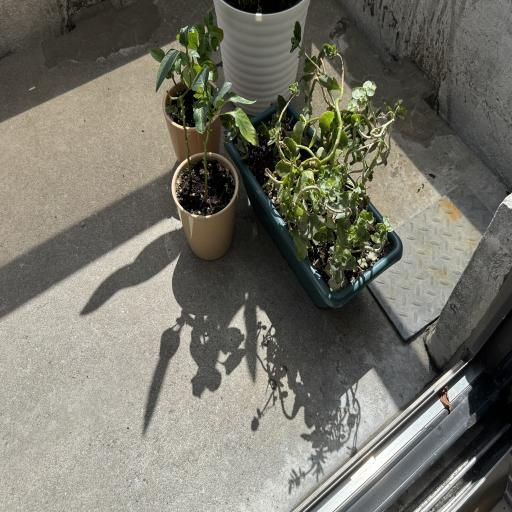Plant Pot: (214, 0, 304, 109), (173, 151, 236, 260), (166, 77, 224, 160)
